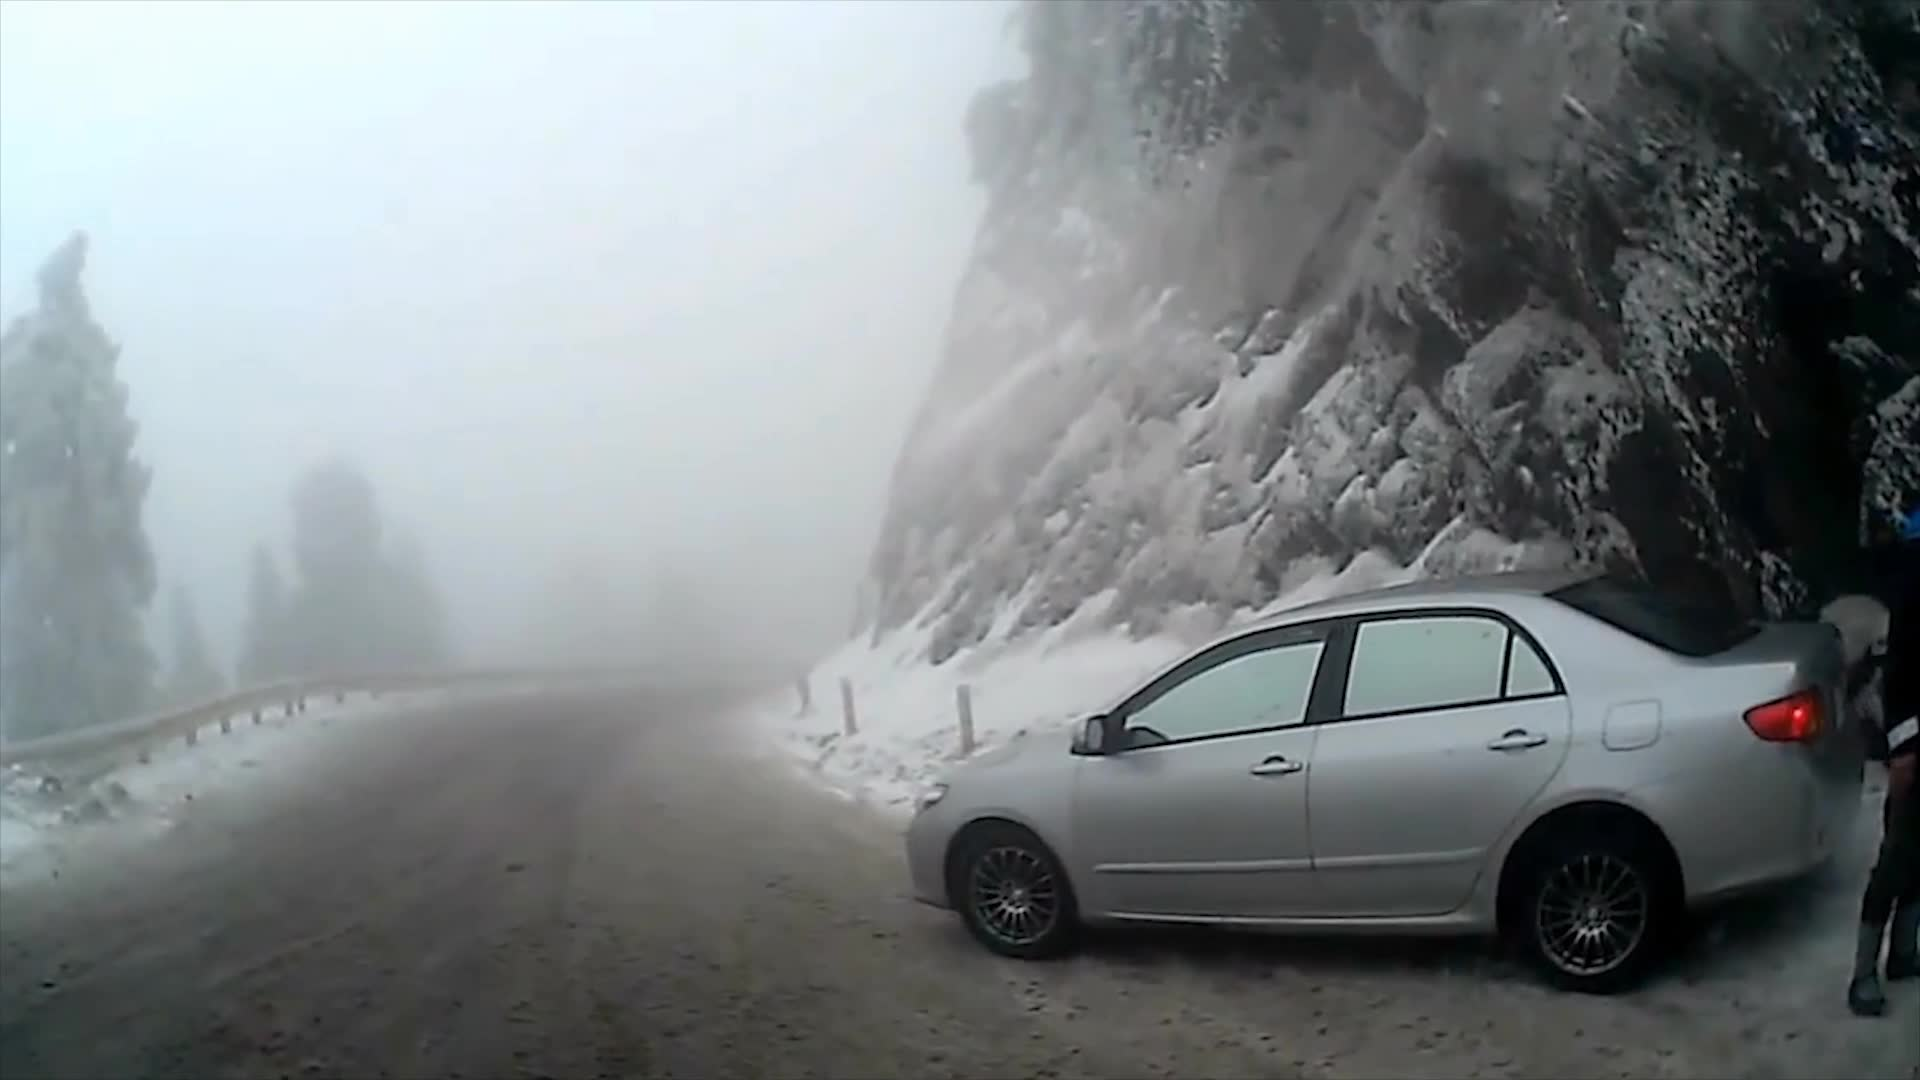pedestrian: (1844, 471, 1920, 1019)
vehicle: (904, 566, 1860, 993)
